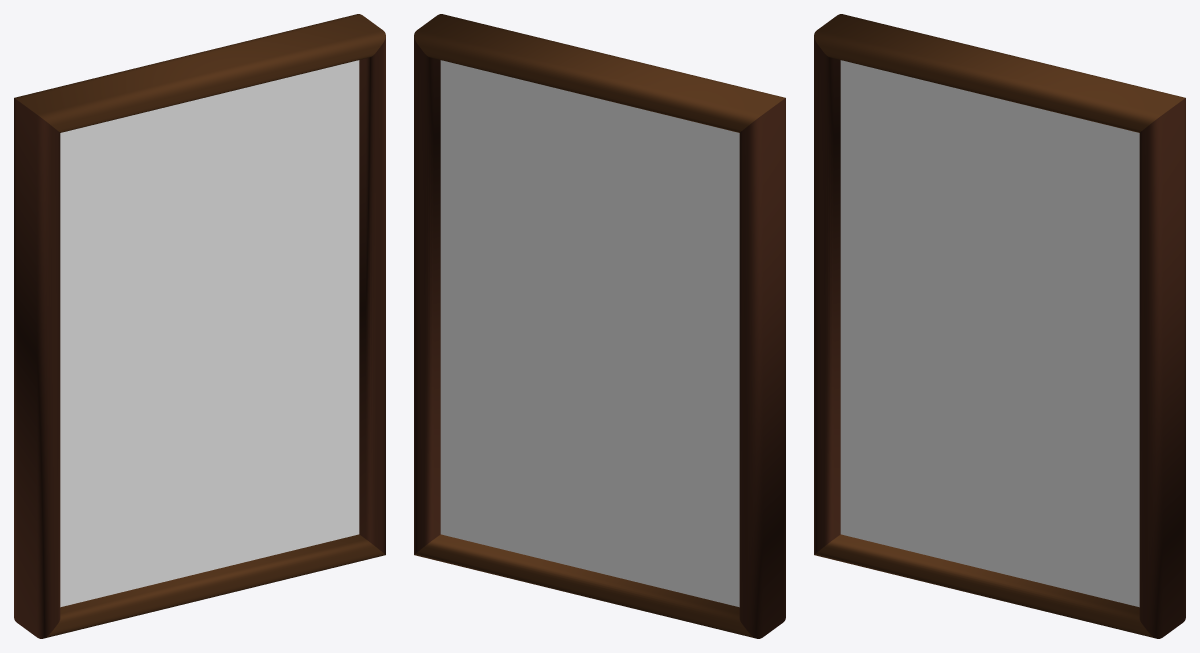
File: N_Window.fbx
3 views of the same model, side by side, from view 1: azimuth 30°, elevation 25°; view 2: azimuth 150°, elevation 25°; view 3: azimuth 330°, elevation 25° (orthographic).
Visible parts, largest first — view 1: Window; view 2: Window; view 3: Window.
Part boxes in pixels (<box>): Window: <box>14,14,385,638</box>; Window: <box>414,14,785,638</box>; Window: <box>814,14,1185,638</box>.
Bounding box in the file's own units: 90 × 130 × 15.
